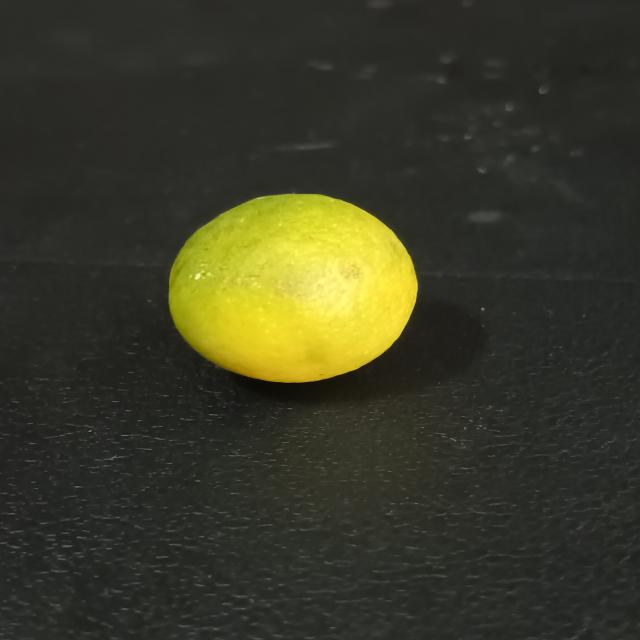greening: (166, 195, 422, 384)
